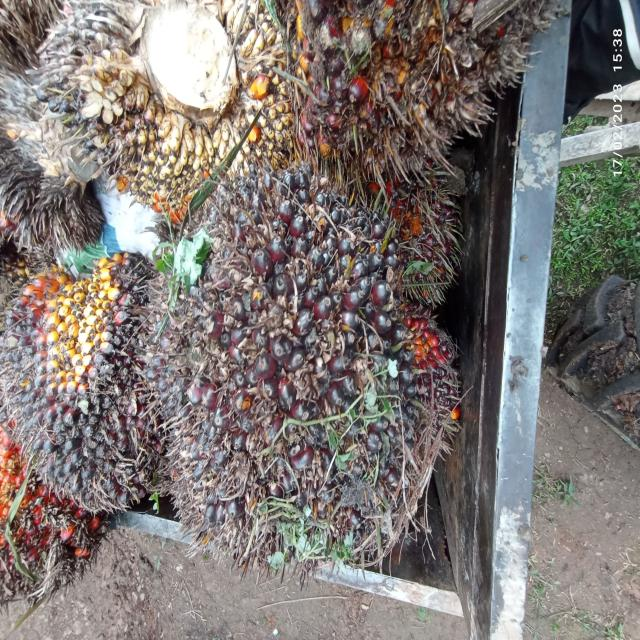fraksi 00: (121, 161, 462, 571), (0, 235, 191, 540)
